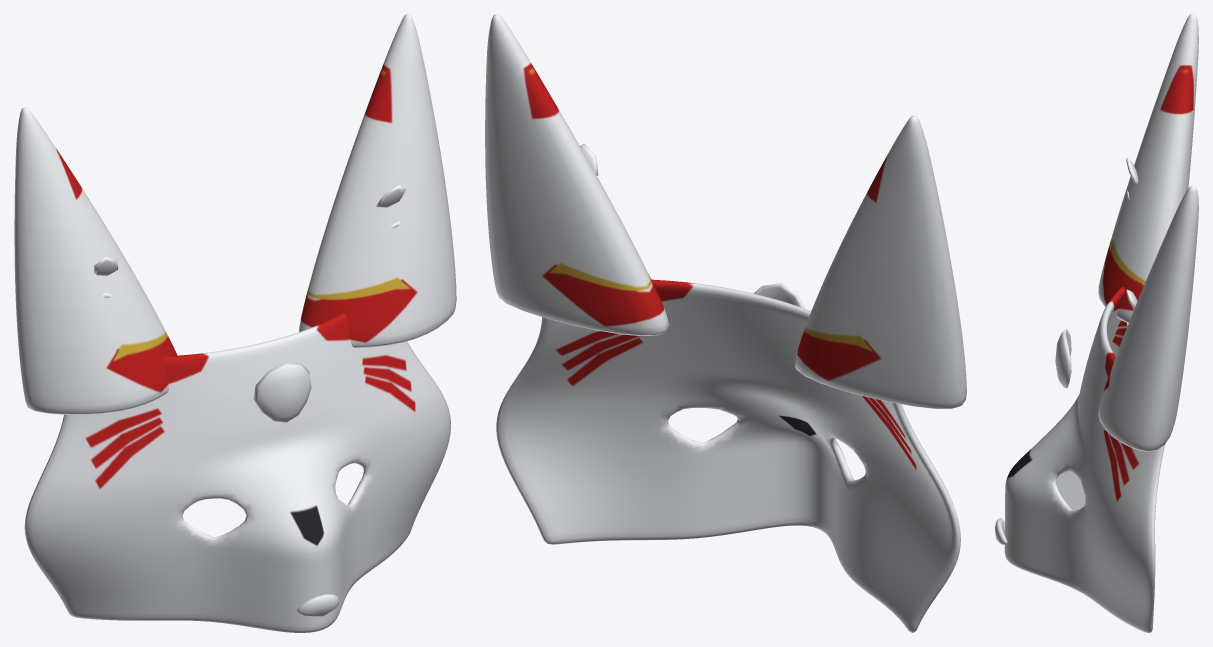
Rendered from aurora-fox-mask.glb.
3 renders of one model, left to right at view 1: azimuth 30°, elevation 25°; view 2: azimuth 150°, elevation 25°; view 3: azimuth 270°, elevation 25°, orthographic. The views are drawn at different scales.
Parts seen in each view (by area): view 1: AuroraFoxMask; view 2: AuroraFoxMask; view 3: AuroraFoxMask.
Boxes of the visible parts, x1,y1,x2,y2 form: AuroraFoxMask: [14, 14, 456, 632]; AuroraFoxMask: [485, 14, 966, 632]; AuroraFoxMask: [995, 14, 1198, 632].
Bounding box in the file's own units: 0.2071 × 0.2289 × 0.0922.
1 material, 1 textured.
